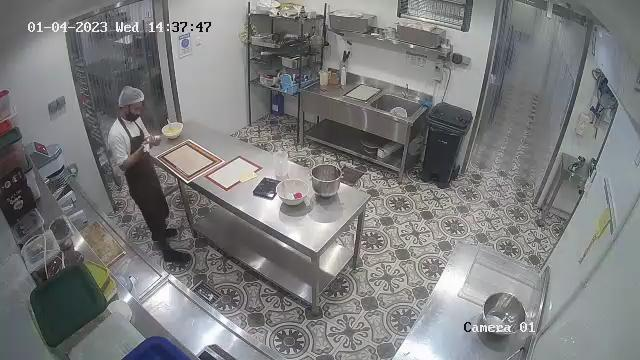apron: (119, 118, 170, 230)
